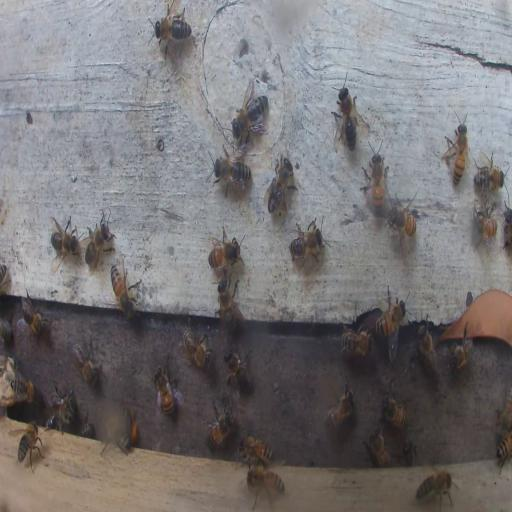bee: (230, 86, 269, 144), (151, 2, 191, 58), (334, 80, 362, 151), (386, 193, 418, 251), (84, 214, 114, 274), (375, 289, 406, 347), (266, 154, 296, 212), (110, 262, 139, 320), (208, 226, 244, 272), (182, 319, 213, 371), (324, 382, 356, 432), (415, 470, 457, 508), (364, 148, 387, 216), (204, 398, 234, 450), (49, 214, 79, 264), (72, 335, 102, 385), (290, 218, 324, 262), (213, 152, 251, 190), (153, 363, 179, 418), (16, 422, 44, 473), (246, 468, 284, 504), (20, 289, 48, 337), (218, 280, 242, 332), (223, 350, 252, 392), (238, 435, 275, 467), (48, 384, 76, 425), (340, 328, 374, 361), (364, 427, 392, 467), (380, 390, 408, 430), (474, 158, 506, 192), (448, 328, 474, 369), (2, 375, 36, 404), (418, 324, 438, 372), (475, 205, 499, 243), (454, 124, 468, 185), (496, 378, 511, 433), (123, 406, 139, 448), (496, 430, 511, 470), (503, 203, 512, 255), (402, 440, 417, 467), (79, 416, 97, 438), (1, 317, 13, 343), (0, 261, 8, 294), (45, 416, 63, 428)
